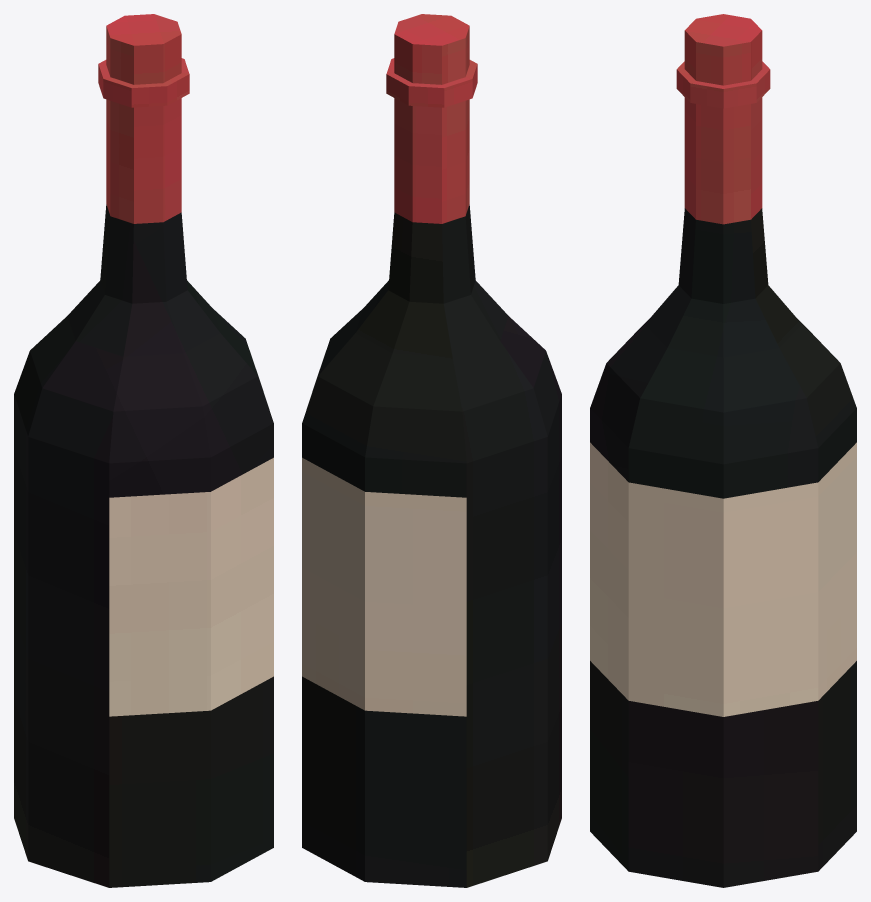
The model's file is Bottle of wine.glb.
3 views of the same model, side by side, from view 1: azimuth 30°, elevation 25°; view 2: azimuth 150°, elevation 25°; view 3: azimuth 270°, elevation 25° (orthographic).
Visible parts, largest first — view 1: Cube.007_Cube.005; view 2: Cube.007_Cube.005; view 3: Cube.007_Cube.005.
Boxes of the visible parts, box(x1,y1,x2,y2) form: Cube.007_Cube.005: box(14, 14, 273, 887); Cube.007_Cube.005: box(302, 14, 561, 887); Cube.007_Cube.005: box(590, 14, 856, 887).
Size of the model in its own units: 1.27 by 4.2 by 1.27.
1 material, 1 textured.
